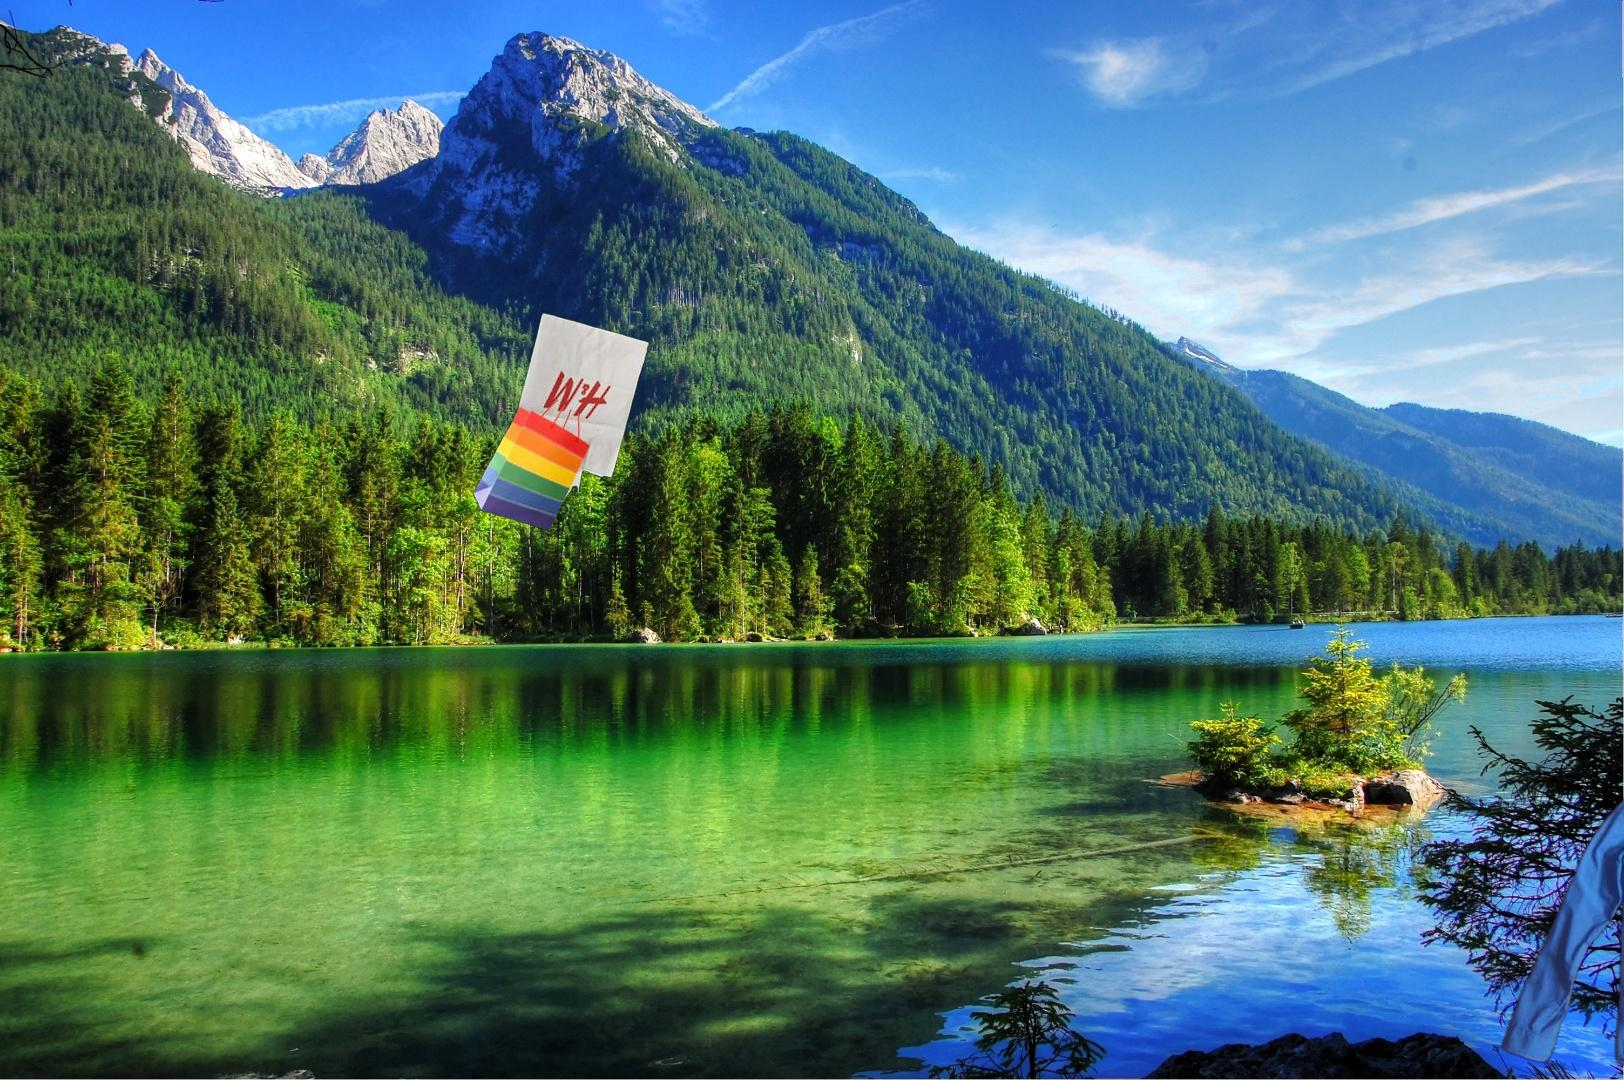clothes: (1496, 739, 1624, 1080)
paper-bag: (470, 310, 652, 533)
